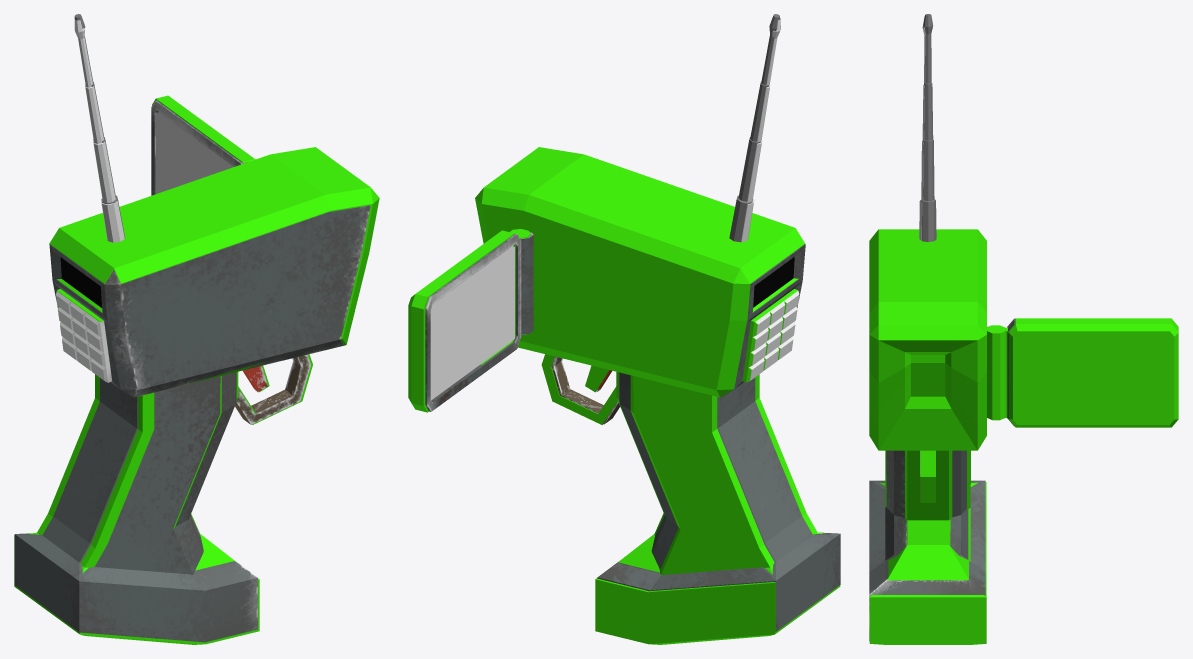
The model's file is PVTM_Prefab_I.fbx.
3 views of the same model, side by side, from view 1: azimuth 30°, elevation 25°; view 2: azimuth 150°, elevation 25°; view 3: azimuth 270°, elevation 25° (orthographic). The views are drawn at different scales.
Visible parts, largest first — view 1: Textured PVTM, OutlineMesh, QuadCam; view 2: OutlineMesh, Textured PVTM, QuadCam, Cylinder; view 3: OutlineMesh, Textured PVTM, Cylinder.
Part boxes in pixels (x1=…): Textured PVTM: x1=14, y1=19, x2=370, y2=642; OutlineMesh: x1=14, y1=95, x2=379, y2=644; QuadCam: x1=155, y1=112, x2=231, y2=193; OutlineMesh: x1=408, y1=147, x2=840, y2=644; Textured PVTM: x1=425, y1=18, x2=840, y2=631; QuadCam: x1=431, y1=246, x2=514, y2=399; Cylinder: x1=729, y1=14, x2=779, y2=242; OutlineMesh: x1=869, y1=229, x2=1178, y2=644; Textured PVTM: x1=869, y1=17, x2=1015, y2=640; Cylinder: x1=920, y1=14, x2=936, y2=241.
Size of the model in its own units: 61681 by 122551 by 60306.
8 materials, 2 textured.
